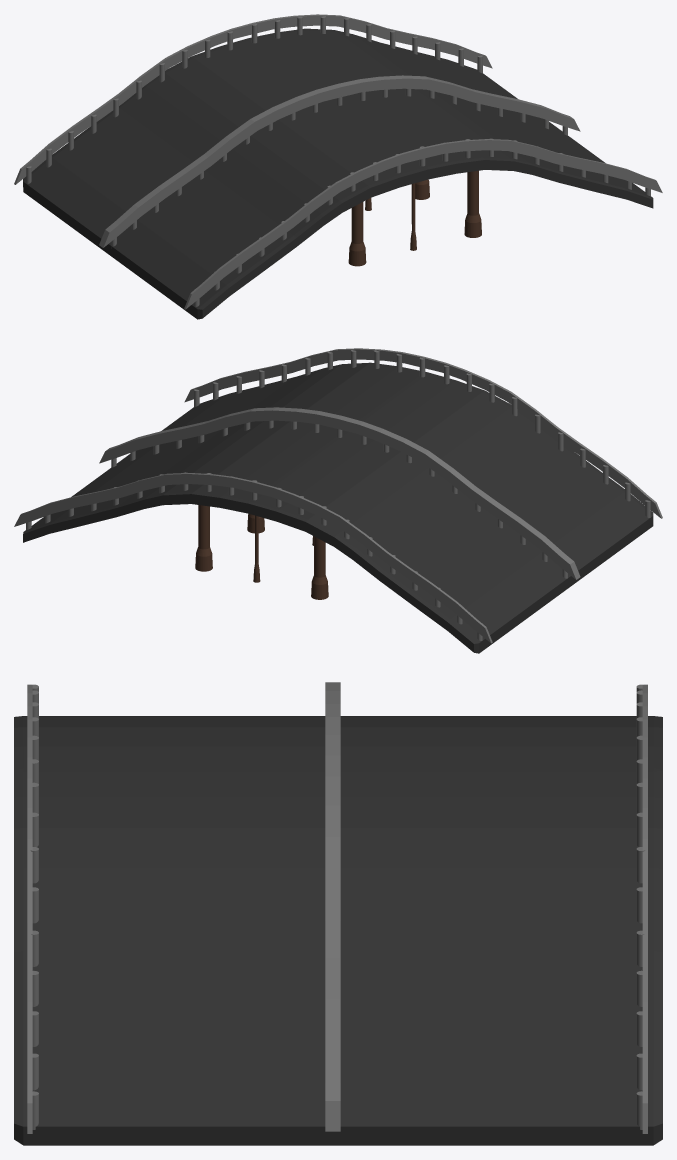
The model's file is Bridge.fbx.
3 renders of one model, top to bottom at view 1: azimuth 30°, elevation 25°; view 2: azimuth 150°, elevation 25°; view 3: azimuth 270°, elevation 25°, orthographic. The views are drawn at different scales.
Parts seen in each view (by area): view 1: Road, Obsticles, Column; view 2: Road, Obsticles, Column; view 3: Road, Obsticles.
Part boxes in pixels (<box>): Road: <box>23,28,653,319</box>; Obsticles: <box>14,14,662,309</box>; Column: <box>348,170,481,266</box>; Road: <box>23,362,653,653</box>; Obsticles: <box>14,348,662,643</box>; Column: <box>195,505,328,599</box>; Road: <box>14,716,662,1145</box>; Obsticles: <box>27,682,647,1133</box>.
Size of the model in its own units: 6250 by 1450 by 4070.
